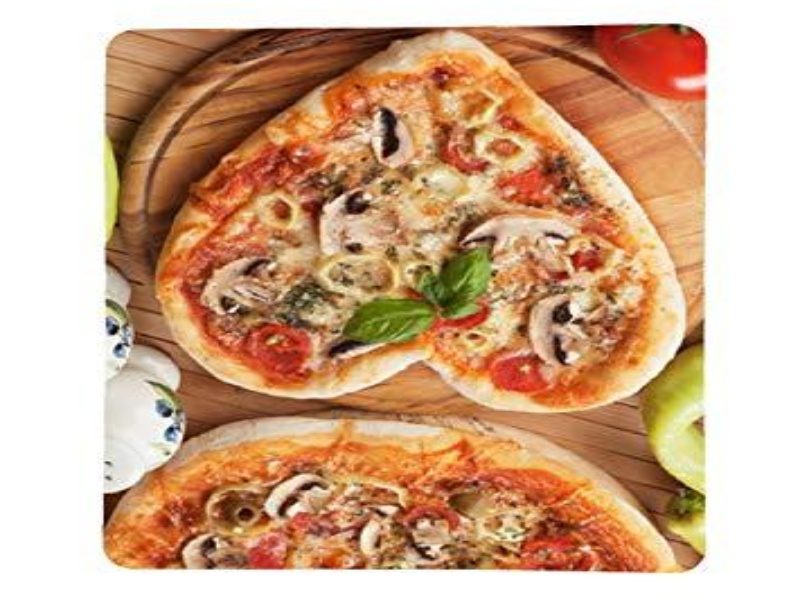champignon: (461, 201, 577, 271), (197, 241, 292, 322), (311, 184, 416, 257), (518, 281, 597, 370), (258, 468, 343, 529), (368, 90, 419, 175)
